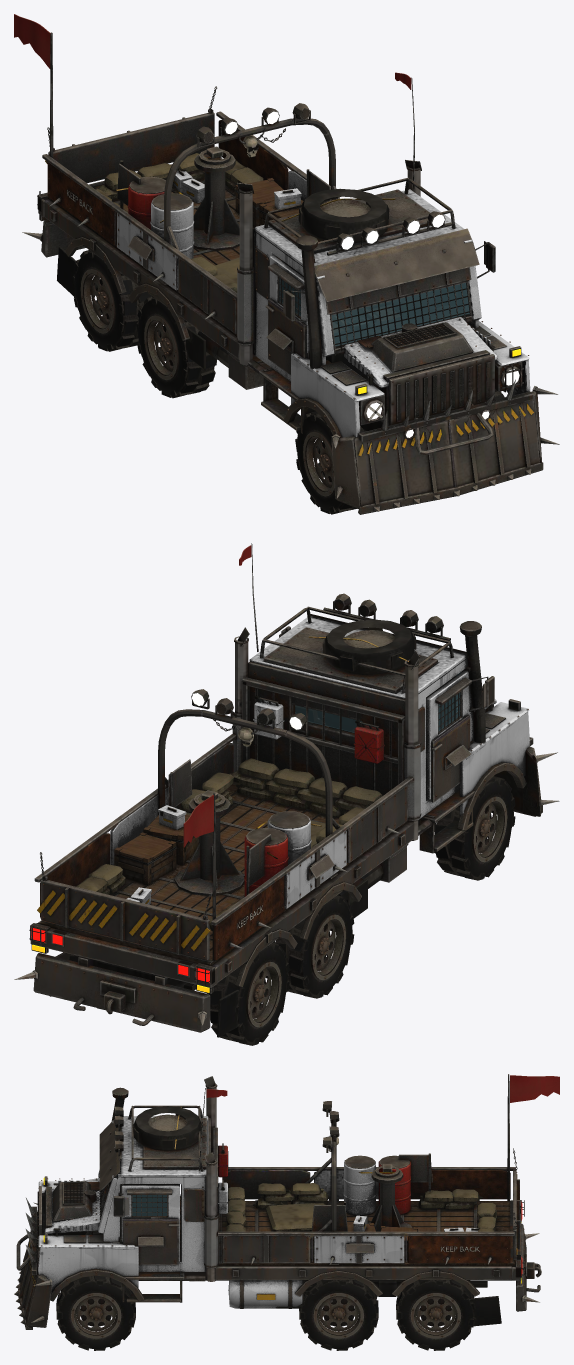
Rendered from e_heavy.glb.
3 views of the same model, one above another, from view 1: azimuth 30°, elevation 25°; view 2: azimuth 150°, elevation 25°; view 3: azimuth 270°, elevation 25° (orthographic). The views are drawn at different scales.
Parts seen in each view (by area): view 1: body, panel_bumper_F, panel_armor_R, panel_tailgate, panel_hood, wheel_RR, wheel_MR, panel_fender_R, panel_door_R, wheel_FR, panel_armor_L, panel_fender_L (+1 smaller); view 2: body, panel_armor_R, panel_tailgate, panel_bumper_R, panel_armor_L, panel_door_R, wheel_FR, wheel_MR, wheel_RR, panel_fender_R, panel_bumper_F; view 3: body, panel_armor_L, panel_armor_R, wheel_FL, wheel_RL, wheel_ML, panel_door_L, panel_fender_L, panel_bumper_F, panel_hood, panel_bumper_R, panel_tailgate.
Part boxes in pixels (x1,y1,x2,y2): body: [14, 14, 523, 439]; panel_bumper_F: [331, 379, 559, 514]; panel_armor_R: [42, 154, 237, 334]; panel_tailgate: [45, 86, 217, 183]; panel_hood: [344, 317, 497, 388]; wheel_RR: [73, 250, 151, 351]; wheel_MR: [136, 296, 216, 398]; panel_fender_R: [284, 353, 384, 437]; panel_door_R: [265, 255, 309, 375]; wheel_FR: [295, 411, 365, 514]; panel_armor_L: [216, 111, 306, 200]; panel_fender_L: [470, 321, 530, 395]; body: [29, 543, 520, 1037]; panel_armor_R: [211, 777, 412, 960]; panel_tailgate: [37, 852, 211, 960]; panel_bumper_R: [14, 953, 210, 1032]; panel_armor_L: [34, 734, 236, 917]; panel_door_R: [426, 670, 494, 802]; wheel_FR: [434, 776, 515, 880]; wheel_MR: [274, 895, 354, 998]; wheel_RR: [209, 942, 289, 1045]; panel_fender_R: [457, 702, 529, 830]; panel_bumper_F: [494, 737, 559, 816]; body: [30, 1074, 559, 1326]; panel_armor_L: [217, 1231, 514, 1264]; panel_armor_R: [222, 1167, 513, 1199]; wheel_FL: [56, 1275, 135, 1350]; wheel_RL: [396, 1280, 475, 1350]; wheel_ML: [299, 1280, 378, 1350]; panel_door_L: [113, 1185, 179, 1265]; panel_fender_L: [38, 1235, 144, 1301]; panel_bumper_F: [14, 1198, 52, 1329]; panel_hood: [44, 1178, 100, 1236]; panel_bumper_R: [516, 1223, 541, 1311]; panel_tailgate: [513, 1148, 519, 1259].
Size of the model in its own units: 3.24 by 4.75 by 9.
Materials: 13 (9 with a texture image).
